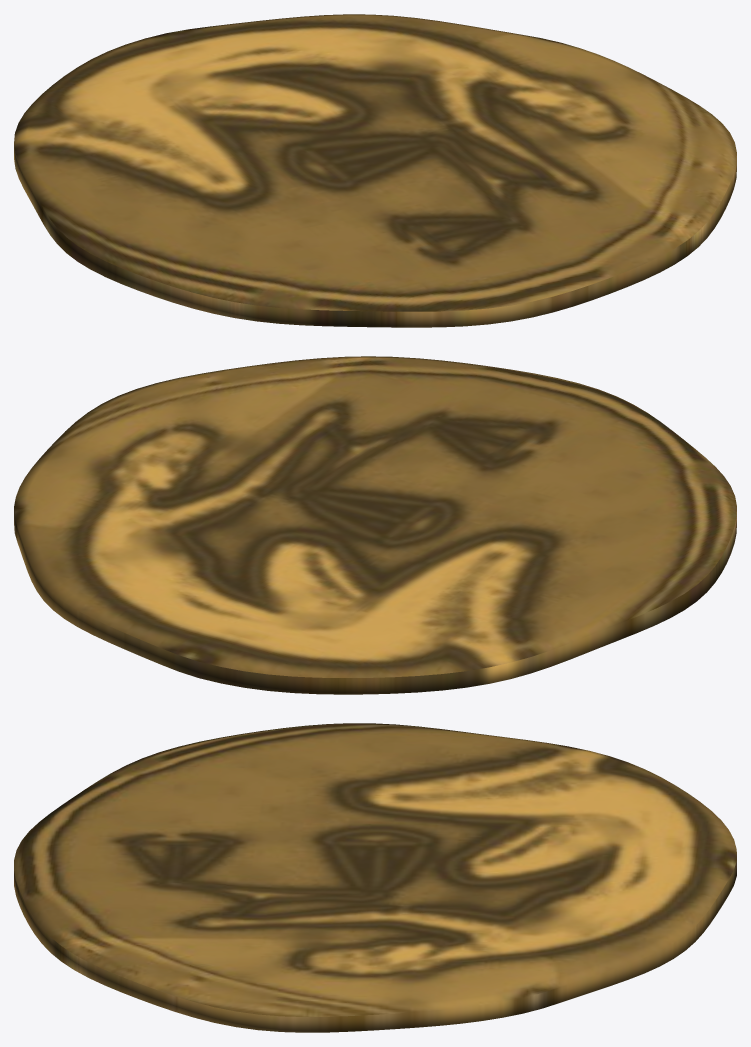
File: zodiac_07.glb
3 views of the same model, one above another, from view 1: azimuth 30°, elevation 25°; view 2: azimuth 150°, elevation 25°; view 3: azimuth 270°, elevation 25° (orthographic). The views are drawn at different scales.
Visible parts, largest first — view 1: zodiac_07; view 2: zodiac_07; view 3: zodiac_07.
Part boxes in pixels (x1,y1,x2,y2): zodiac_07: (14, 14, 736, 327); zodiac_07: (14, 356, 736, 694); zodiac_07: (14, 723, 736, 1032).
Bounding box in the file's own units: 0.9389 × 0.0425 × 0.9761.
Materials: 1 (1 with a texture image).
